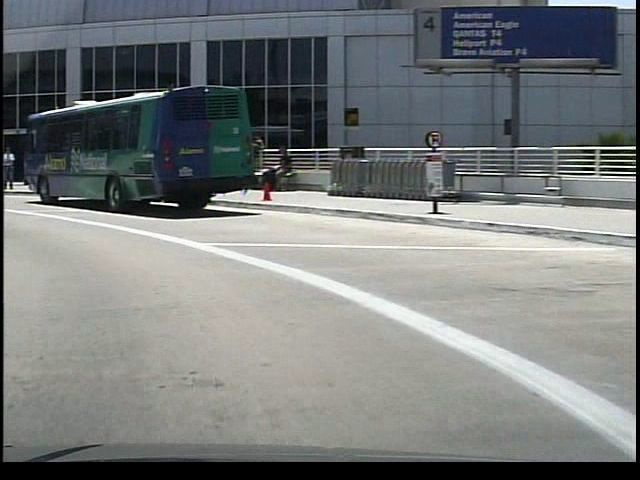person: (260, 144, 288, 196)
